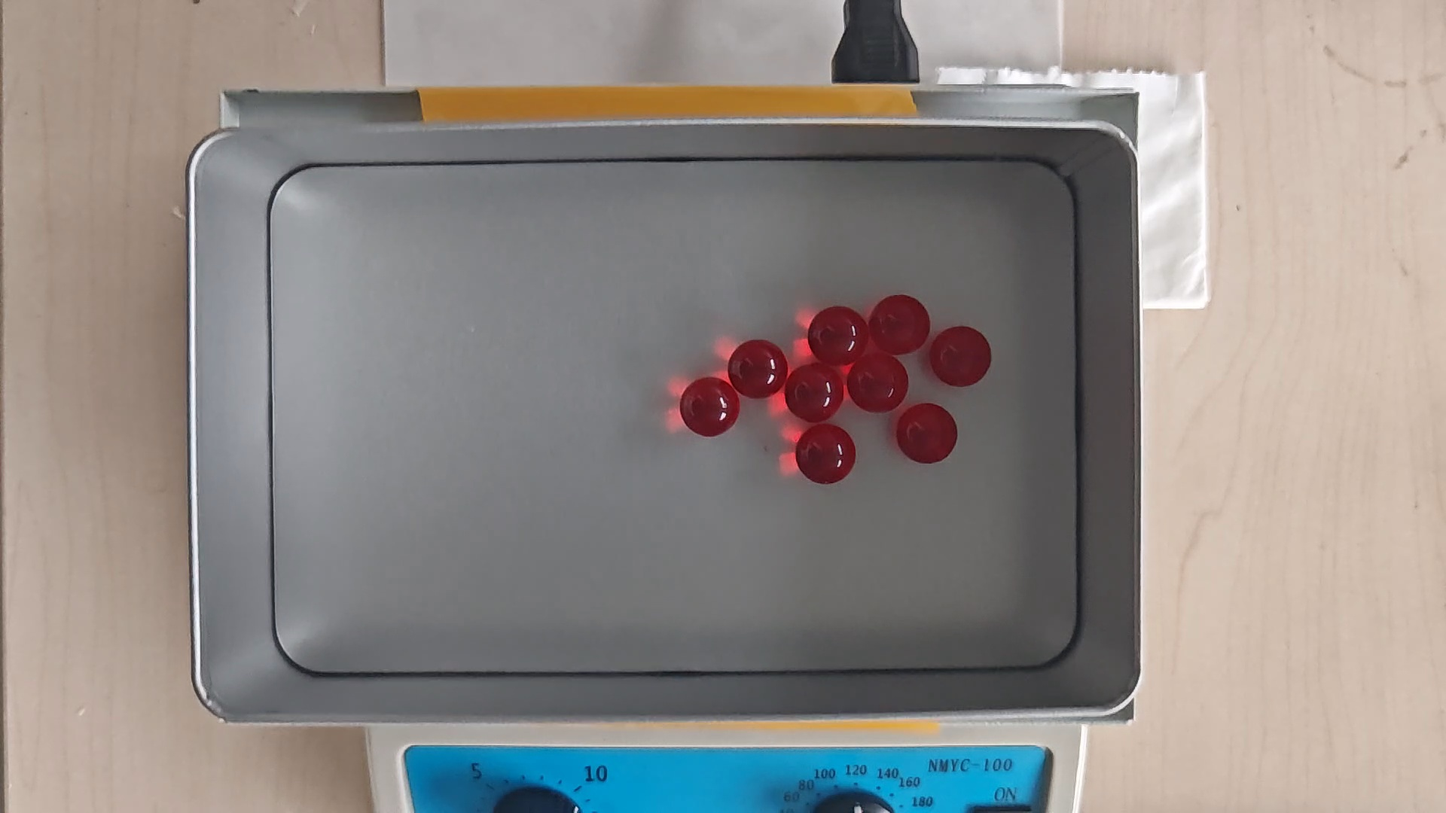ball: (930, 325, 993, 388), (795, 423, 856, 485), (897, 403, 958, 465), (848, 351, 907, 414), (679, 376, 739, 437), (871, 295, 931, 355), (785, 364, 845, 423), (728, 340, 788, 399), (808, 306, 867, 365)
container: (271, 159, 1078, 673)
